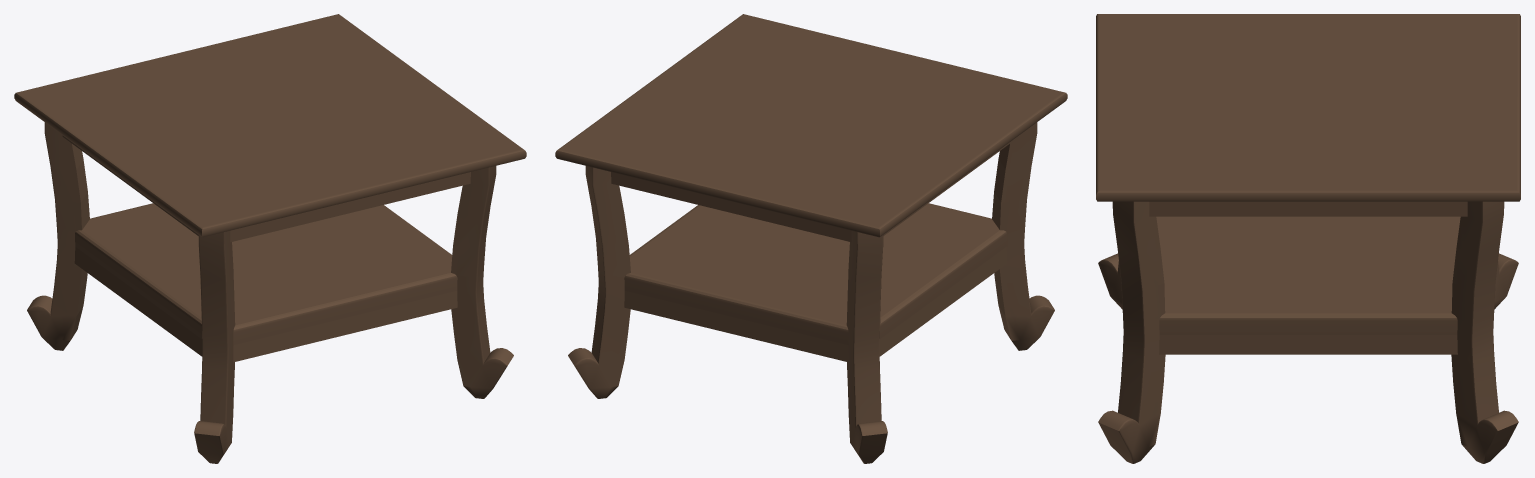
File: Mesita_10x1.fbx
3 renders of one model, left to right at view 1: azimuth 30°, elevation 25°; view 2: azimuth 150°, elevation 25°; view 3: azimuth 270°, elevation 25°, orthographic. The views are drawn at different scales.
Visible parts, largest first — view 1: Habitacion_Mesita_GEO; view 2: Habitacion_Mesita_GEO; view 3: Habitacion_Mesita_GEO.
Part boxes in pixels (box(x1,y1,x2,y2)): Habitacion_Mesita_GEO: box(14, 14, 526, 463); Habitacion_Mesita_GEO: box(555, 14, 1067, 463); Habitacion_Mesita_GEO: box(1096, 14, 1520, 463).
Size of the model in its own units: 10 by 7.41 by 10.
